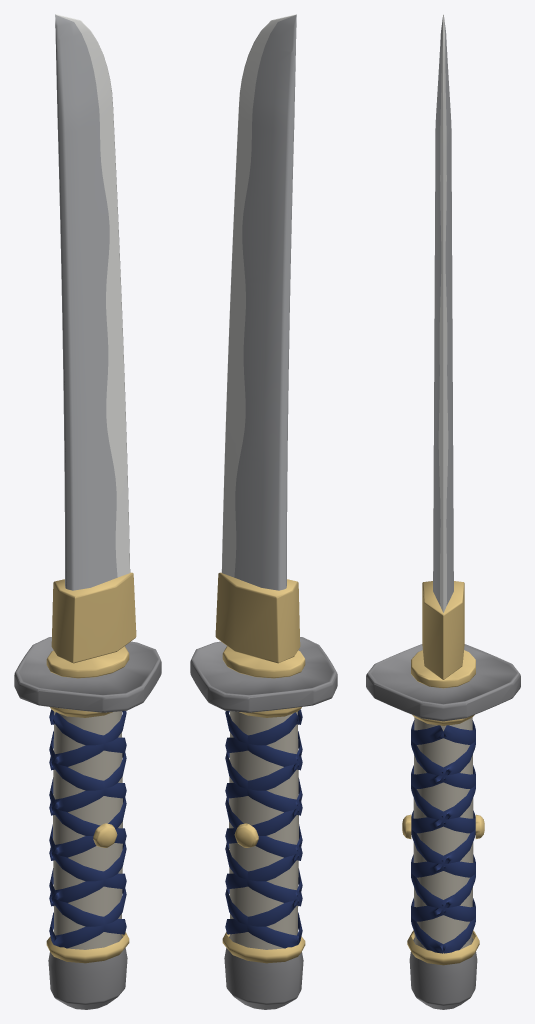
The model's file is gear_edo_tanto.glb.
The picture shows the model from 3 angles, left to right: view 1: azimuth 30°, elevation 25°; view 2: azimuth 150°, elevation 25°; view 3: azimuth 270°, elevation 25°; orthographic projection. The views are drawn at different scales.
Visible parts, largest first — view 1: gear_edo_tanto; view 2: gear_edo_tanto; view 3: gear_edo_tanto.
Part boxes in pixels (left/top/right/bottom): gear_edo_tanto: left=14, top=14, right=161, bottom=1009; gear_edo_tanto: left=190, top=14, right=337, bottom=1009; gear_edo_tanto: left=366, top=14, right=520, bottom=1009.
Bounding box in the file's own units: 0.054 × 0.3735 × 0.054.
